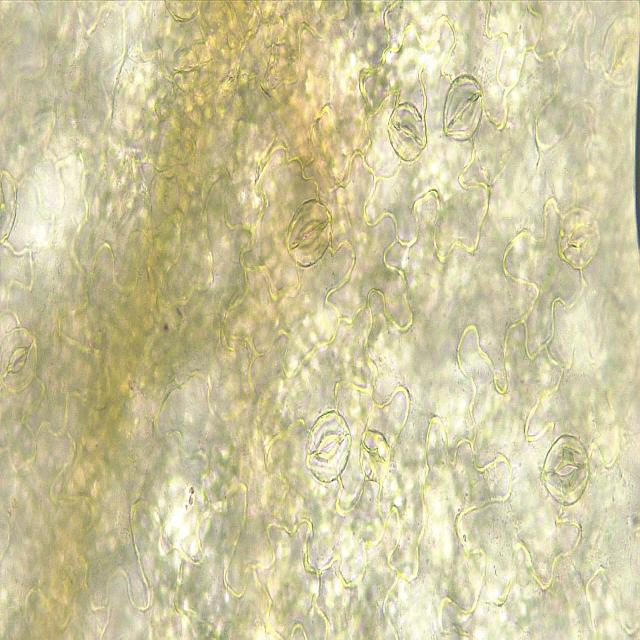Stomata: (304, 408, 354, 486), (540, 433, 592, 508), (285, 197, 333, 270), (599, 12, 640, 89), (556, 204, 602, 272), (442, 72, 484, 144), (0, 325, 40, 396), (388, 100, 428, 163), (358, 429, 392, 484)
